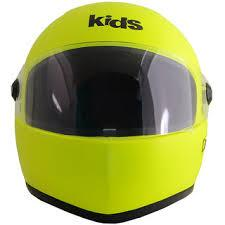helmet: (12, 3, 211, 222)
